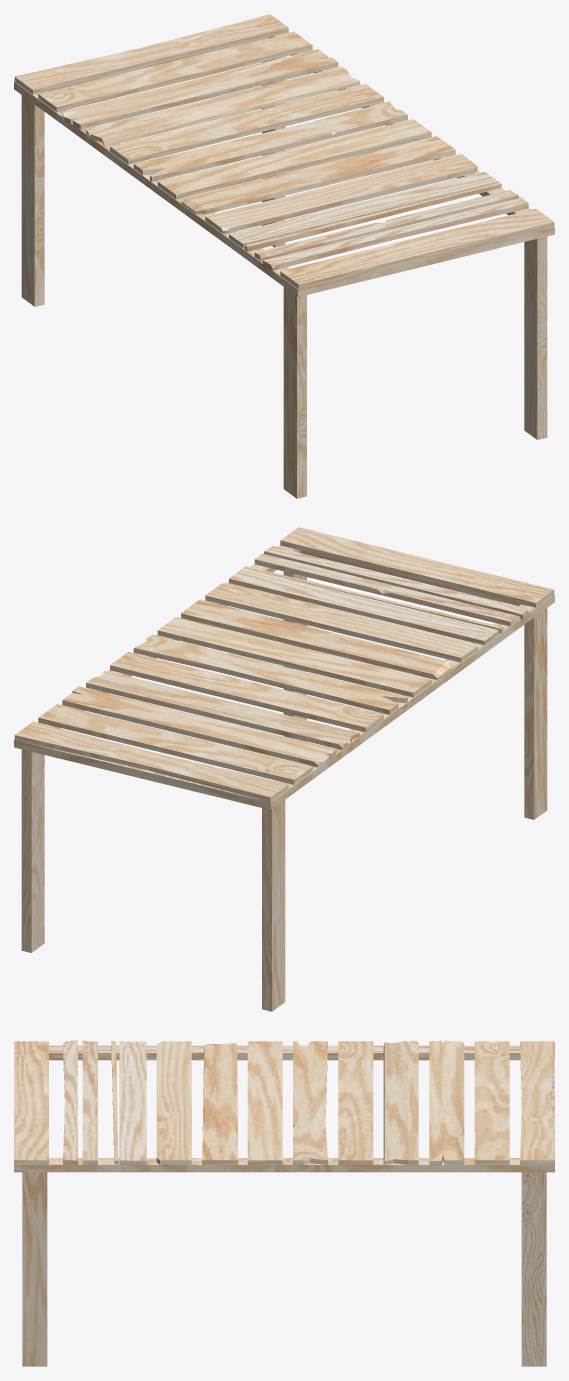
The model's file is WoodTable.fbx.
The picture shows the model from 3 angles, top to bottom: view 1: azimuth 30°, elevation 25°; view 2: azimuth 150°, elevation 25°; view 3: azimuth 270°, elevation 25°; orthographic projection. The views are drawn at different scales.
Visible parts, largest first — view 1: table_planks, Table_Legs, tabletop; view 2: table_planks, Table_Legs, tabletop; view 3: table_planks, Table_Legs, tabletop.
Boxes of the visible parts, x1,y1,x2,y2 form: table_planks: (14, 14, 554, 289); Table_Legs: (21, 56, 547, 498); tabletop: (14, 32, 554, 296); table_planks: (14, 527, 554, 802); Table_Legs: (21, 571, 547, 1011); tabletop: (14, 545, 554, 809); table_planks: (14, 1040, 554, 1165); Table_Legs: (22, 1100, 546, 1366); tabletop: (14, 1045, 554, 1172).
Size of the model in its own units: 911 by 729 by 1721.
